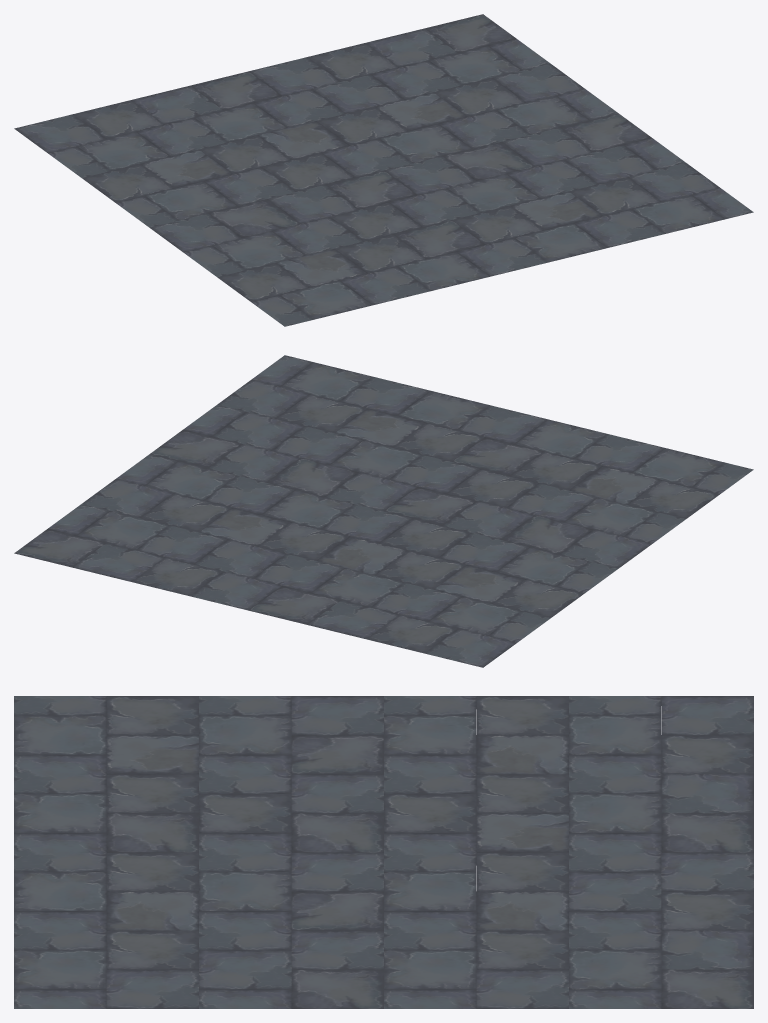
Rendered from Castle Ground X Dark 8x8.fbx.
3 views of the same model, one above another, from view 1: azimuth 30°, elevation 25°; view 2: azimuth 150°, elevation 25°; view 3: azimuth 270°, elevation 25° (orthographic). The views are drawn at different scales.
Visible parts, largest first — view 1: Castle Ground X Dark 8x8; view 2: Castle Ground X Dark 8x8; view 3: Castle Ground X Dark 8x8.
Boxes of the visible parts, <box> form: Castle Ground X Dark 8x8: <box>14,14,753,326</box>; Castle Ground X Dark 8x8: <box>14,355,753,667</box>; Castle Ground X Dark 8x8: <box>14,696,753,1008</box>.
Bounding box in the file's own units: 6 × 1.04e-06 × 6.
